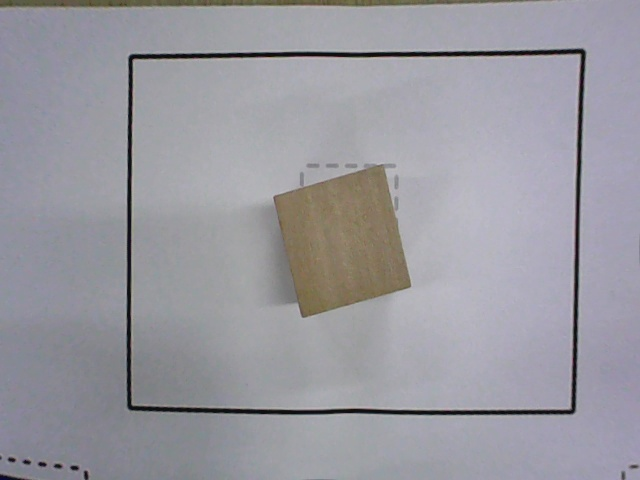upside of big cube: (273, 166, 414, 320)
